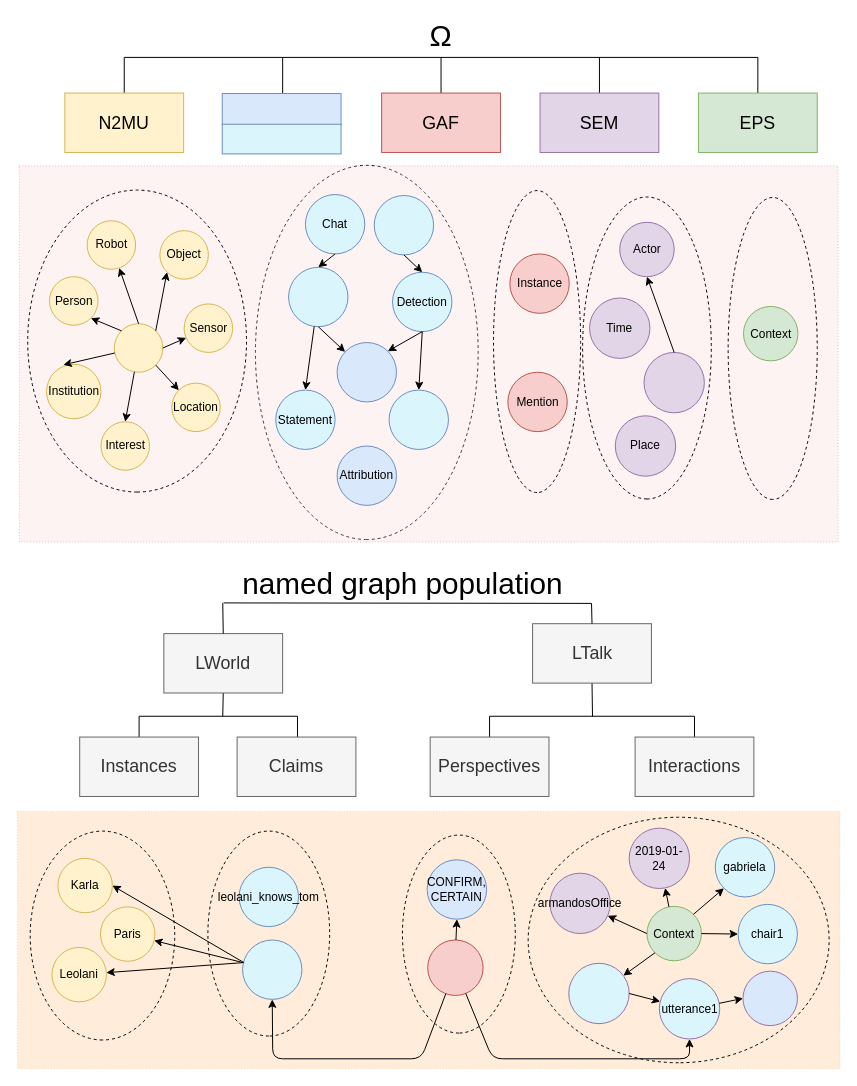
Image size: 857x1086. Some labels were removed from this diagram. Here are the shapes that lost their labels. From the top down, the centre of each, then its label:
At (281,109): "GRASP".
At (281,138): "roboGRASP".
At (403,225): "Visual".
At (318,296): "Utterance".
At (138,347): "Agent".
At (366,372): "Source".
At (673,382): "Event".
At (418,419): "Experience".
At (272,969): "karla_livedIn_paris".
At (455,967): "Mention1".
At (598,993): "chat4".
At (769,998): "Tom".
